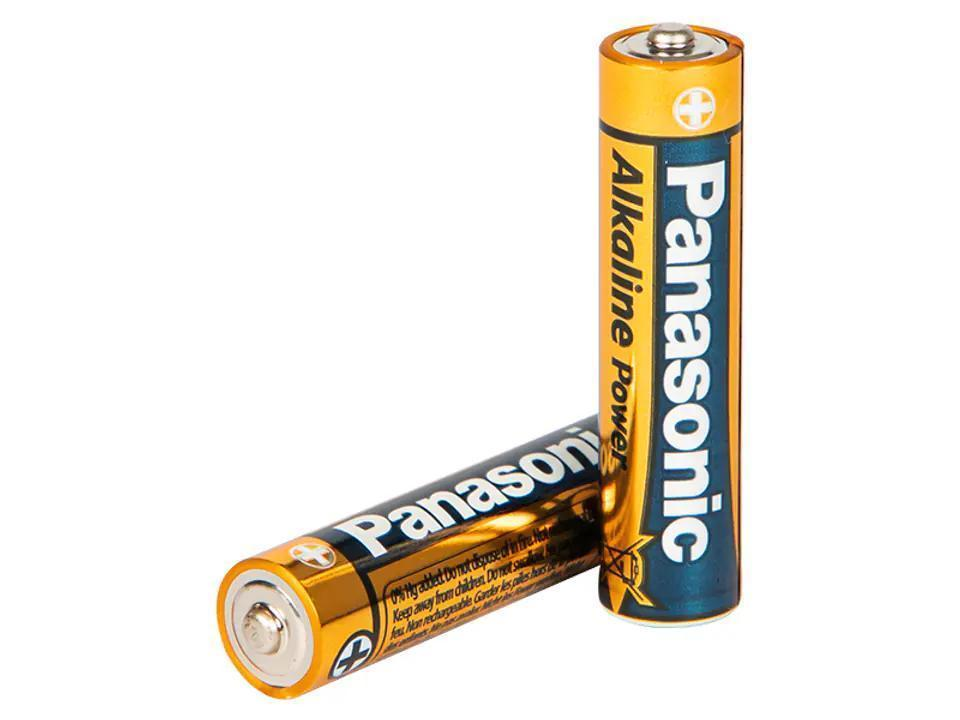AA: (213, 409, 598, 706), (594, 17, 750, 631)
